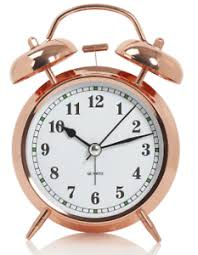alarm_clock: (5, 9, 177, 240)
